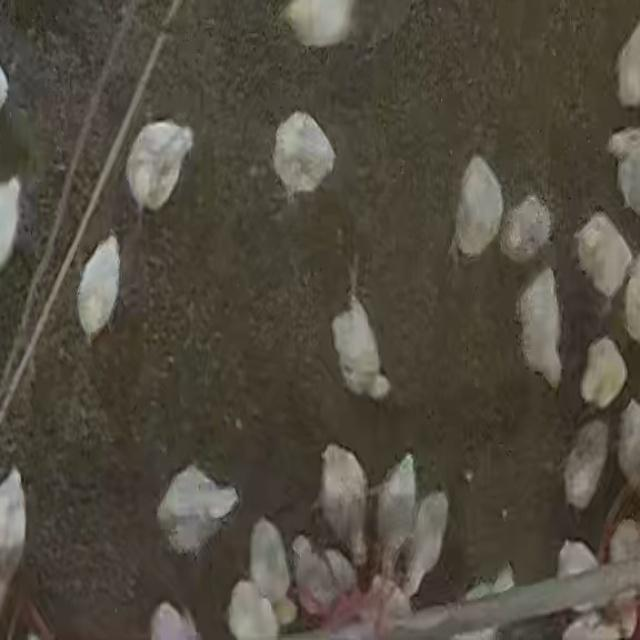chicken: (157, 462, 239, 556), (330, 285, 390, 403), (125, 119, 193, 213), (315, 441, 367, 558), (516, 267, 564, 392), (397, 494, 450, 598), (574, 212, 633, 302), (76, 233, 122, 343), (269, 118, 333, 195), (562, 417, 610, 512), (253, 516, 297, 619), (457, 165, 502, 265), (498, 194, 552, 268), (376, 450, 407, 576), (285, 0, 357, 54), (580, 334, 628, 412), (293, 536, 338, 610), (0, 466, 28, 580), (230, 581, 280, 640), (608, 126, 640, 217), (560, 538, 597, 613), (615, 17, 640, 105), (617, 395, 640, 486), (150, 600, 199, 640)
